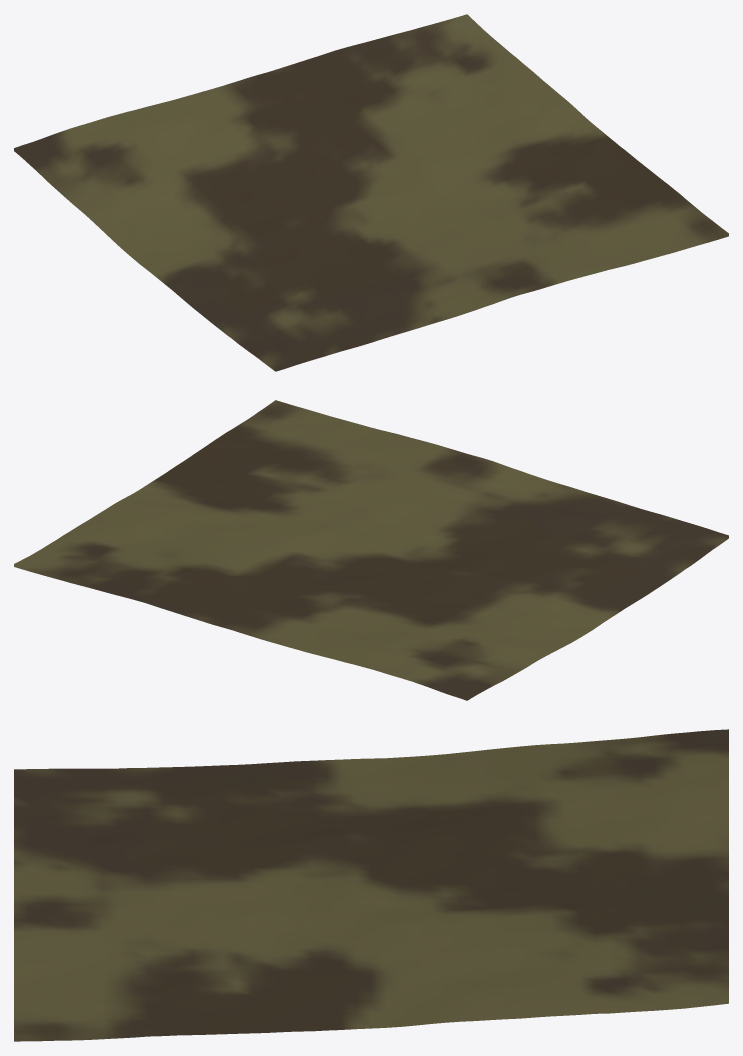
File: land_m_15_02.glb
3 renders of one model, top to bottom at view 1: azimuth 30°, elevation 25°; view 2: azimuth 150°, elevation 25°; view 3: azimuth 270°, elevation 25°, orthographic. The views are drawn at different scales.
Visible parts, largest first — view 1: land_m_15_02; view 2: land_m_15_02; view 3: land_m_15_02.
Boxes of the visible parts, left/top/right/bottom form: land_m_15_02: left=14, top=14, right=728, bottom=371; land_m_15_02: left=14, top=400, right=728, bottom=700; land_m_15_02: left=14, top=729, right=728, bottom=1041.
Size of the model in its own units: 960 by 112 by 960.
